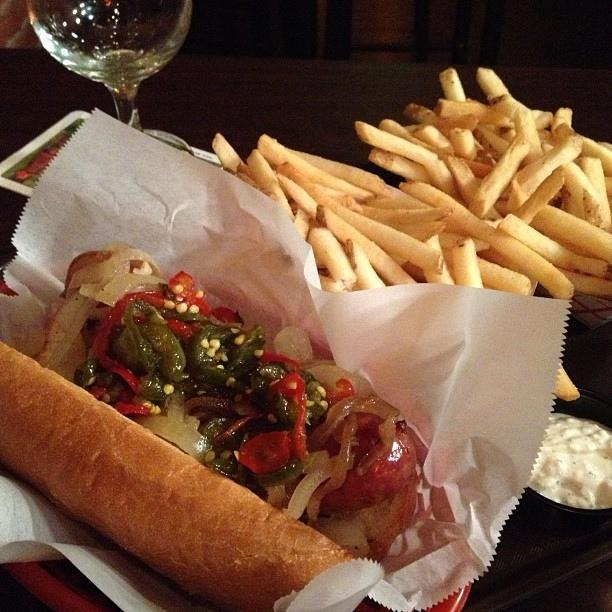bell pepper: (92, 291, 166, 395), (187, 321, 266, 385), (260, 353, 306, 460), (123, 298, 168, 400), (119, 324, 190, 382), (239, 431, 294, 474), (252, 362, 294, 398), (214, 414, 266, 442), (168, 271, 195, 301), (199, 417, 235, 439), (74, 358, 98, 388), (112, 401, 150, 416), (309, 400, 328, 426)
hot pepper: (185, 324, 266, 387), (136, 322, 190, 384), (238, 431, 294, 474), (249, 454, 302, 486), (198, 416, 244, 452), (124, 303, 147, 373), (237, 424, 260, 487), (140, 368, 169, 400), (274, 394, 299, 431), (205, 458, 240, 482), (168, 272, 196, 302), (74, 359, 99, 390), (112, 401, 150, 418), (161, 311, 210, 322), (308, 390, 323, 420), (260, 364, 288, 380), (307, 380, 321, 399)
